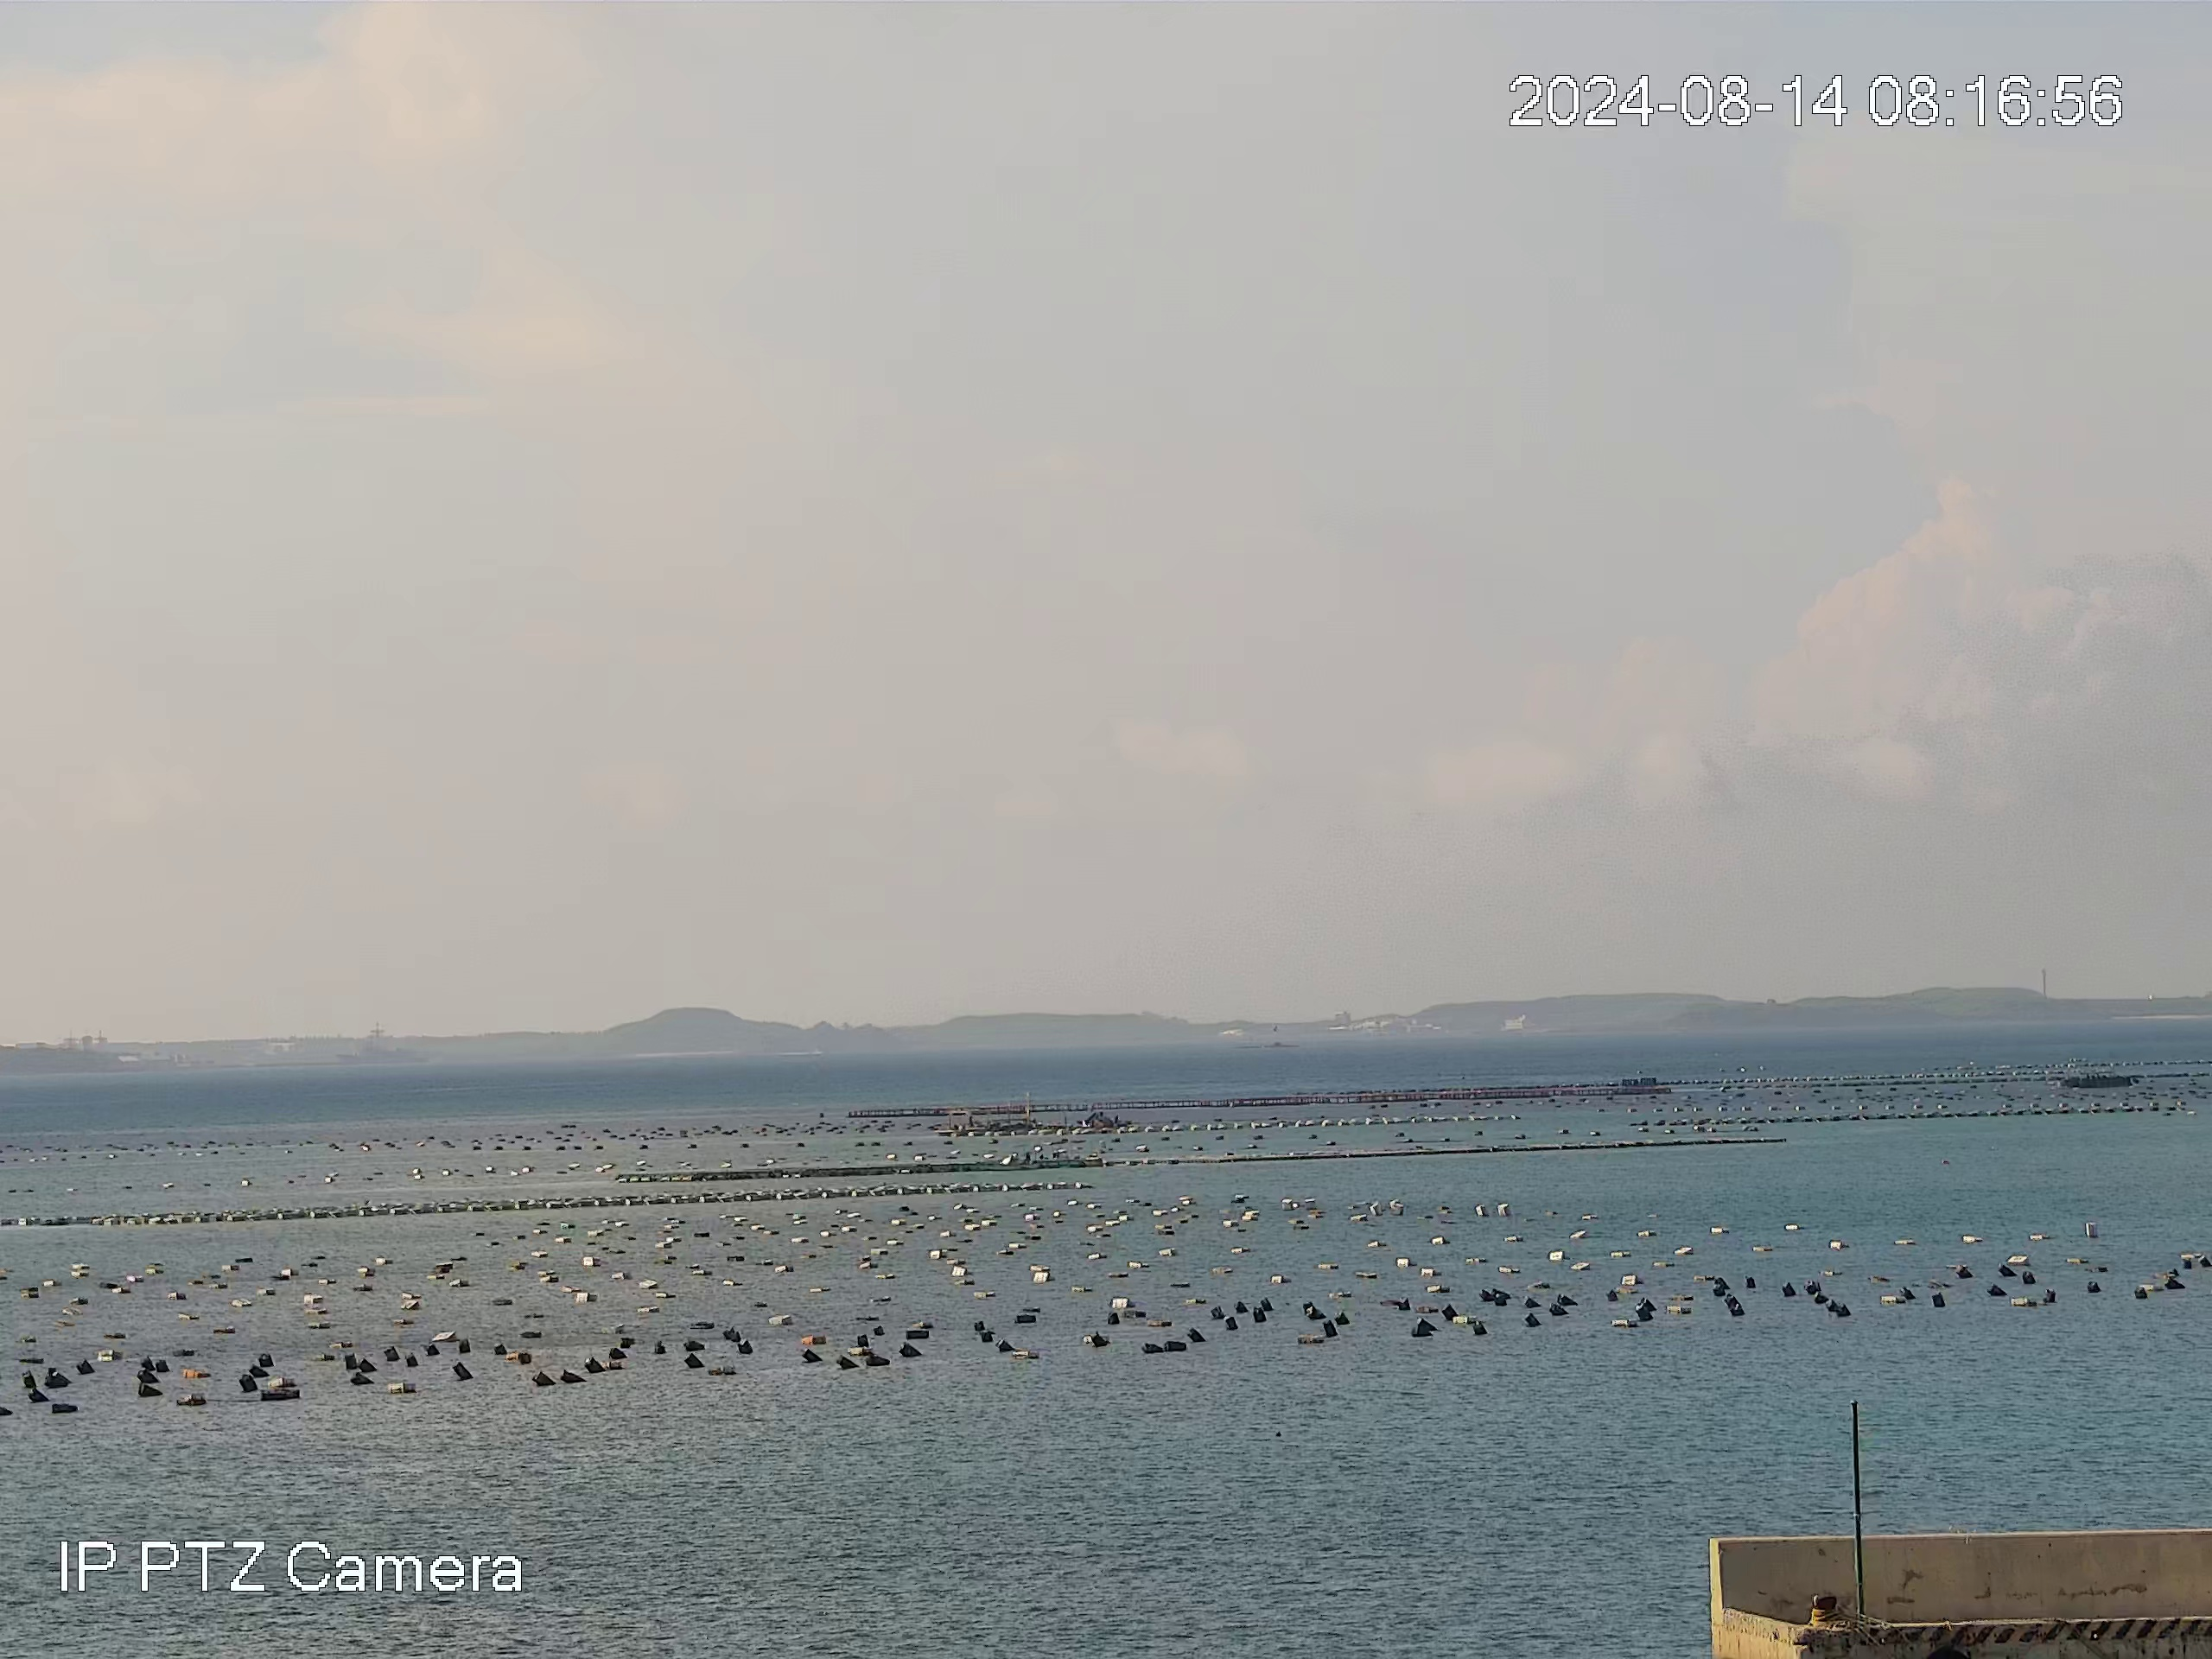boat: (1020, 1141, 1096, 1171), (932, 1109, 1000, 1139), (2061, 1067, 2138, 1090)
